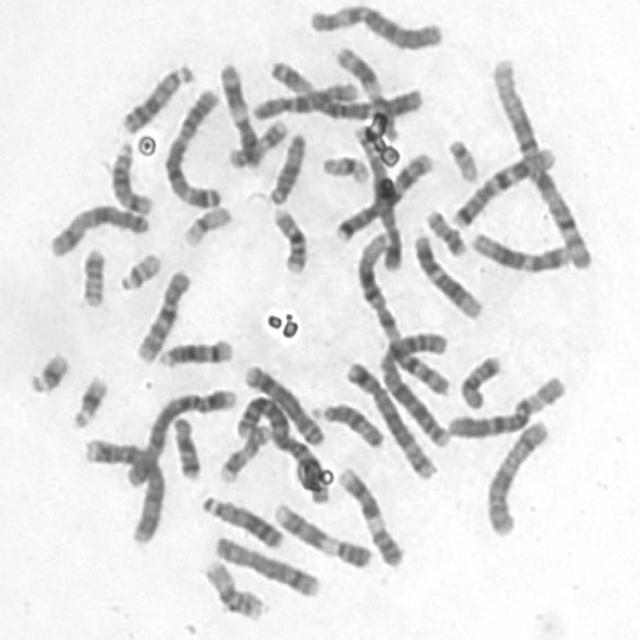A1: (484, 50, 596, 271), (348, 224, 452, 398)
A2: (230, 386, 332, 506), (376, 322, 454, 450)
A3: (262, 52, 425, 122), (158, 80, 224, 210)
B4: (117, 380, 239, 490), (77, 428, 167, 545)
B5: (339, 352, 439, 481), (350, 116, 405, 274)
C10: (128, 261, 194, 365), (246, 74, 360, 121)
C11: (329, 39, 400, 138), (213, 55, 263, 169)
C12: (406, 225, 485, 321), (464, 224, 573, 274)
C6: (440, 368, 570, 440), (302, 0, 445, 52)
C7: (445, 136, 559, 230), (330, 142, 436, 242)
C8: (237, 357, 327, 448), (209, 528, 322, 598)
C9: (331, 459, 406, 569), (267, 496, 373, 570)
D13: (114, 55, 196, 134), (195, 486, 286, 550)
D14: (103, 134, 155, 215), (151, 329, 236, 369)
D15: (308, 395, 387, 450), (262, 126, 308, 206)
E16: (197, 551, 266, 622), (265, 200, 310, 275)
E17: (213, 418, 274, 484), (222, 112, 290, 169)
E18: (452, 346, 504, 411), (165, 409, 202, 482)
F19: (175, 196, 235, 249), (315, 146, 372, 186)
F20: (419, 202, 468, 258), (74, 240, 108, 310)
G21: (64, 366, 110, 431), (19, 343, 72, 396)
G22: (112, 244, 164, 291), (441, 130, 482, 184)
X: (479, 411, 551, 539), (41, 197, 153, 260)
